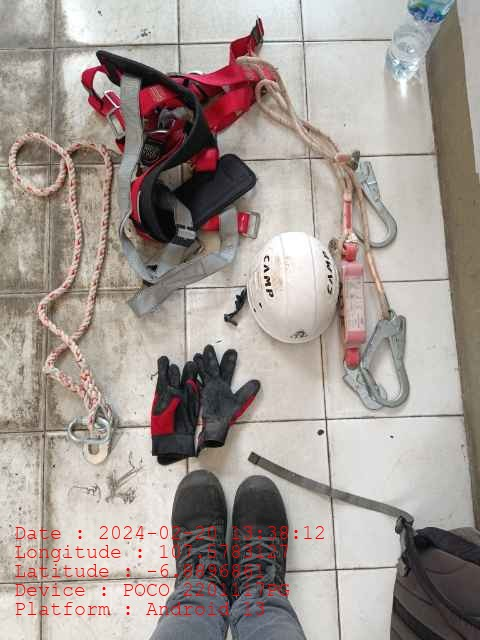HELM: (246, 231, 338, 345)
SARUNG_TANGAN: (150, 354, 197, 459)
TAMBANG_SLING: (6, 131, 121, 466)
